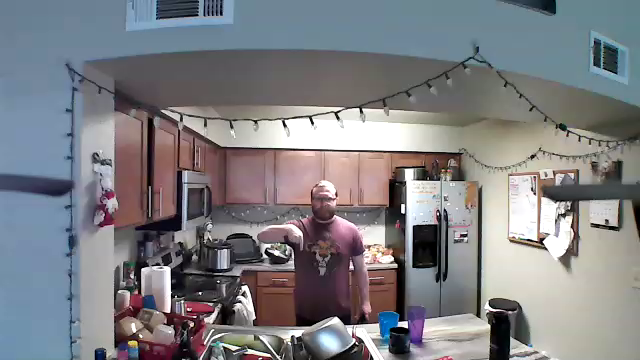down: (283, 218, 309, 256)
